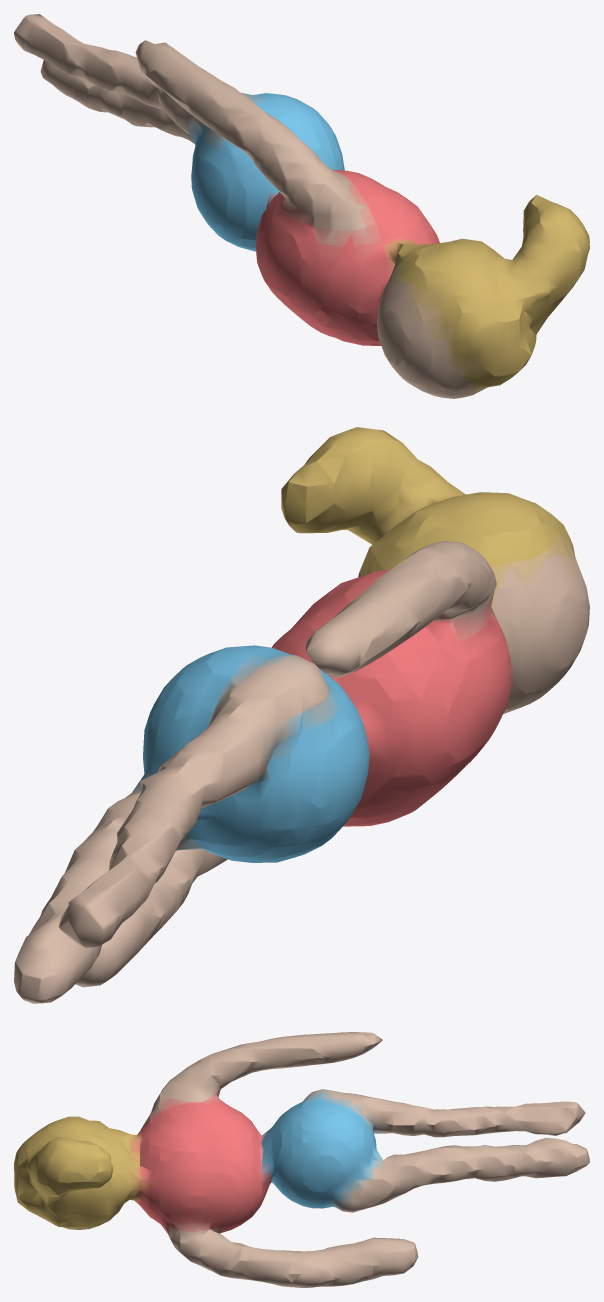
The model's file is barbie.gltf.
3 renders of one model, top to bottom at view 1: azimuth 30°, elevation 25°; view 2: azimuth 150°, elevation 25°; view 3: azimuth 270°, elevation 25°, orthographic. The views are drawn at different scales.
Parts seen in each view (by area): view 1: Layer_1; view 2: Layer_1; view 3: Layer_1.
Part boxes in pixels (x1=…): Layer_1: x1=14, y1=14, x2=589, y2=398; Layer_1: x1=14, y1=427, x2=589, y2=1003; Layer_1: x1=14, y1=1032, x2=589, y2=1287.
Size of the model in its own units: 14.42 by 15.91 by 42.56.
1 material, 1 textured.
